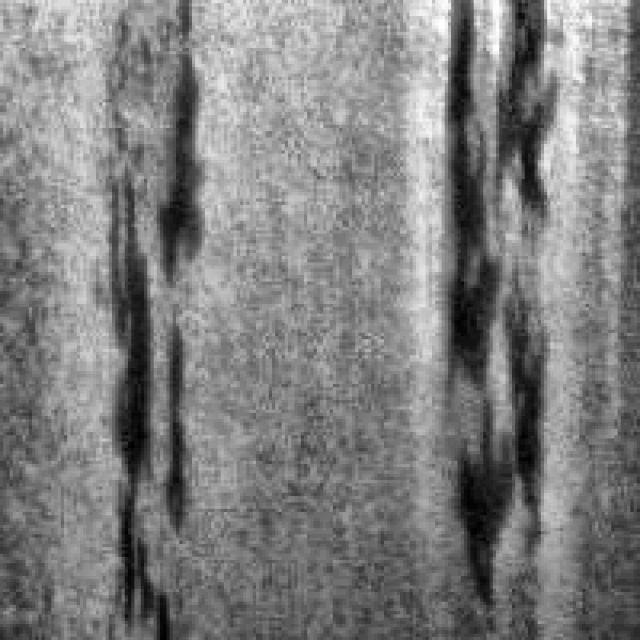Patches: (426, 0, 560, 624), (80, 0, 202, 605), (148, 38, 215, 292), (99, 474, 176, 634)
